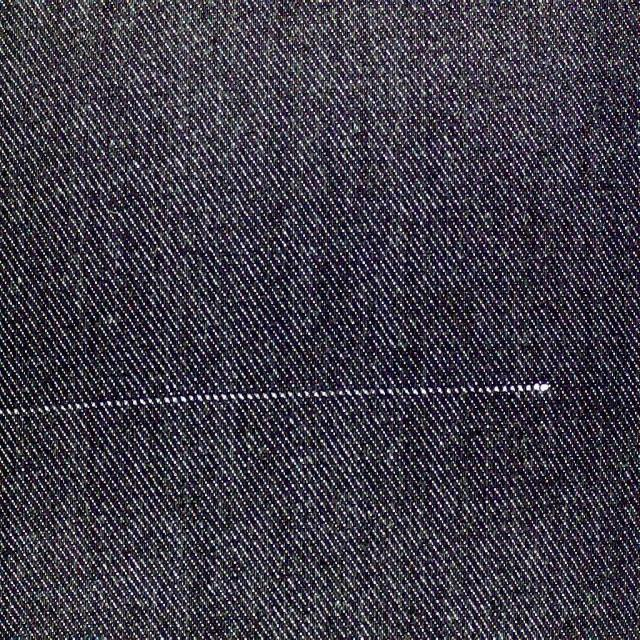Line: (0, 381, 556, 418)
